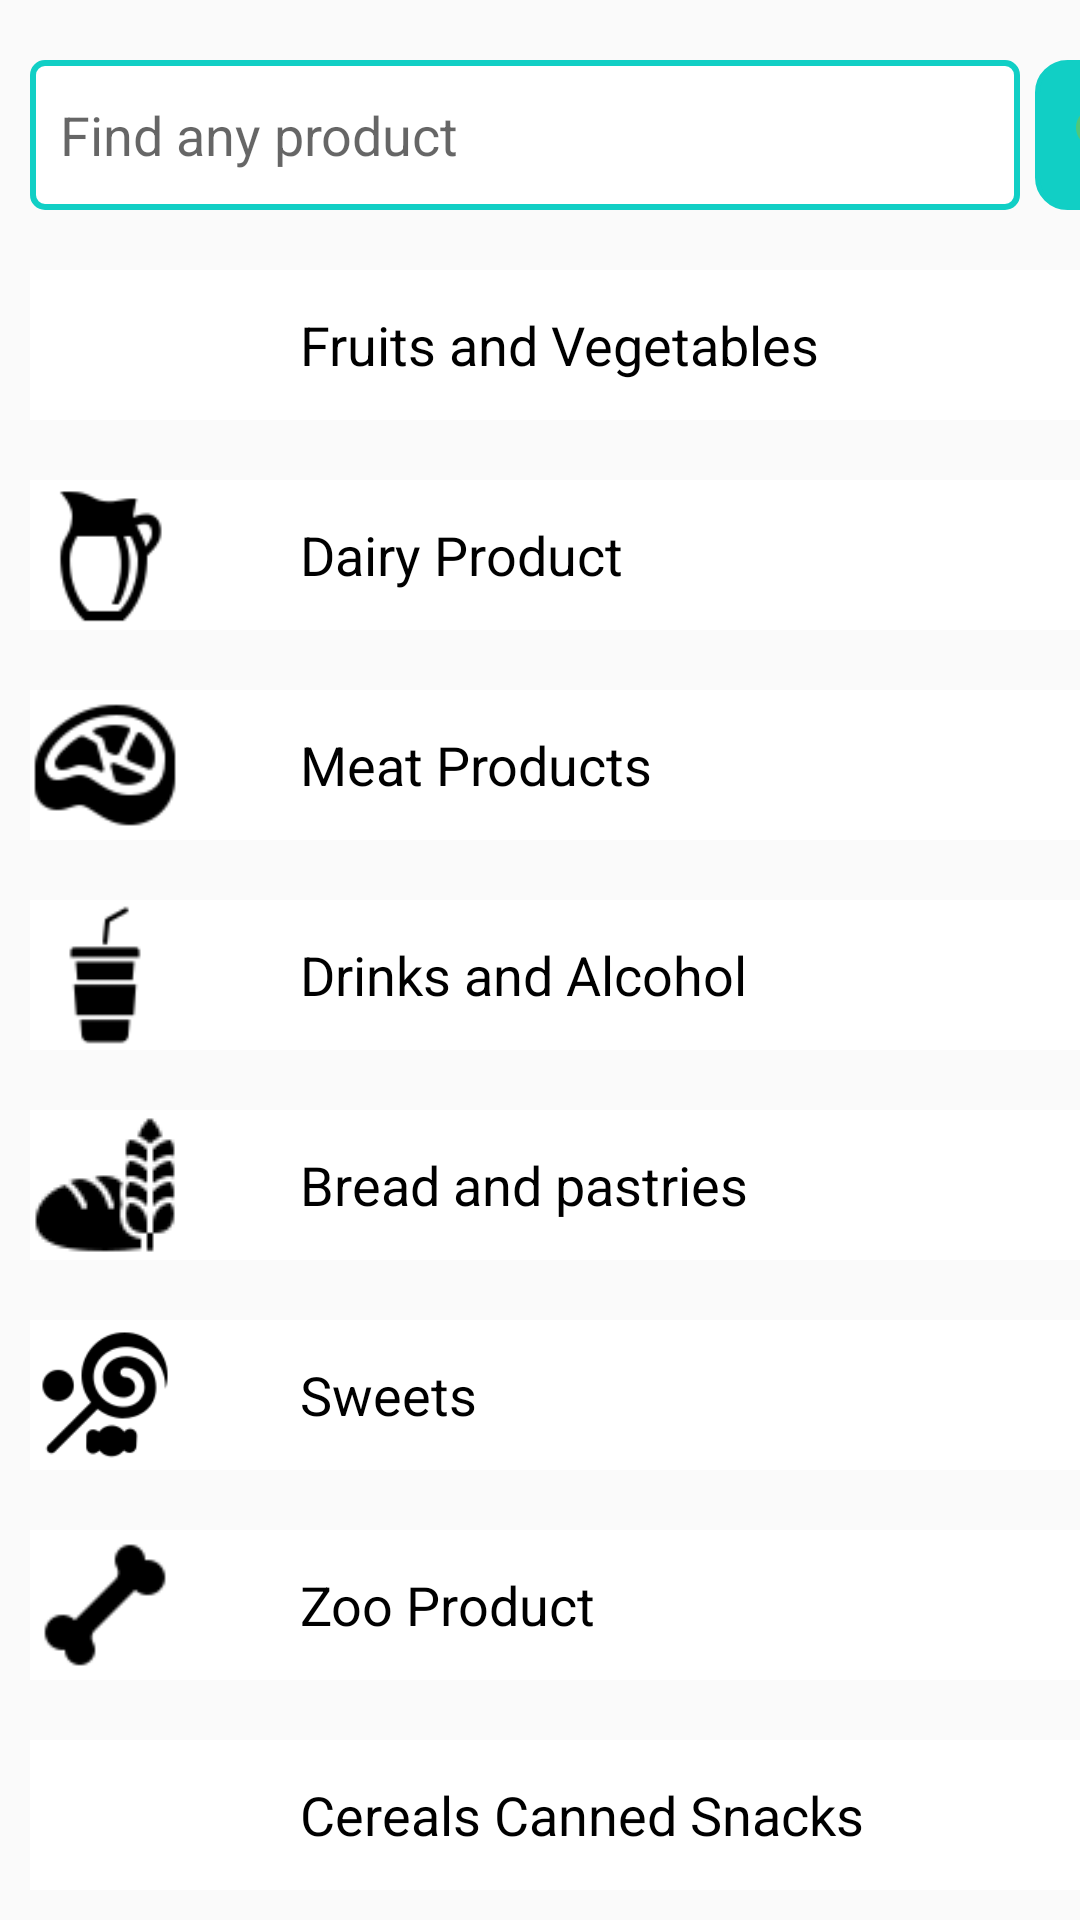

Named icons in this screenshot (1080x1920) and their bounding boxes, (x1, y1, x2, y2):
bone: (44, 1544, 166, 1666)
milk: (60, 491, 162, 622)
